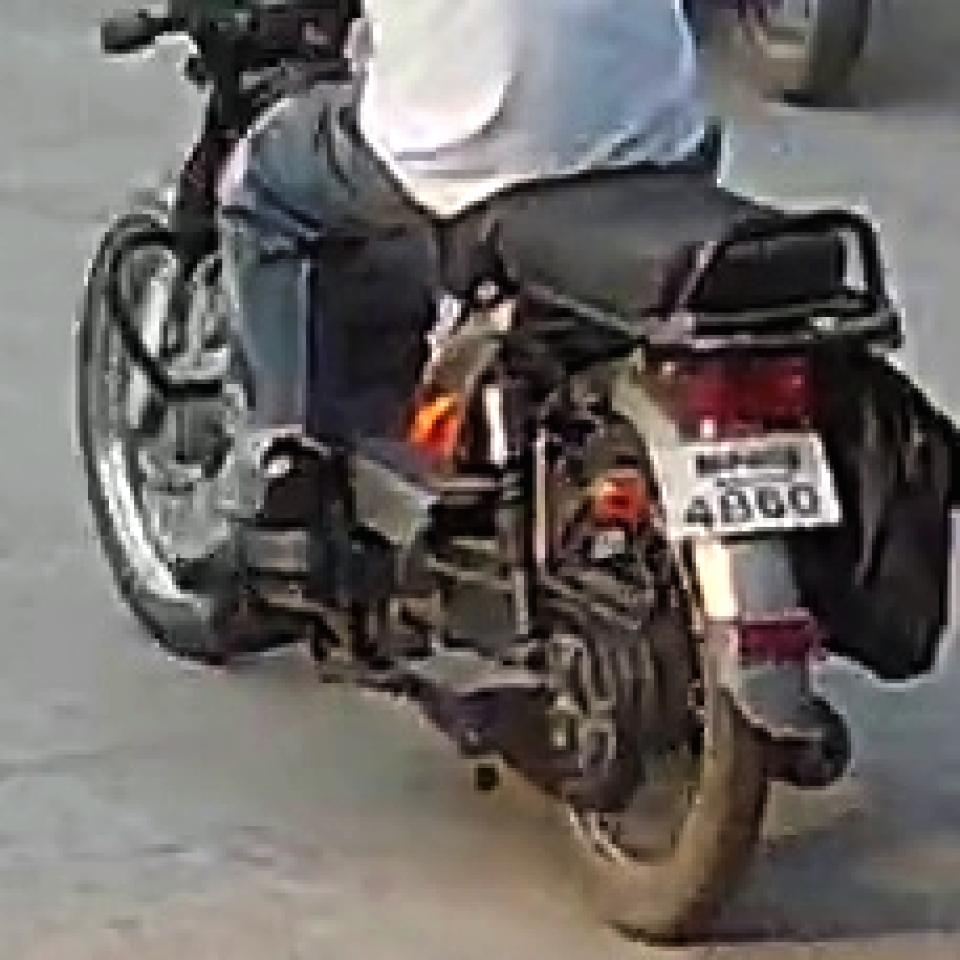tail_light: (704, 359, 814, 424)
